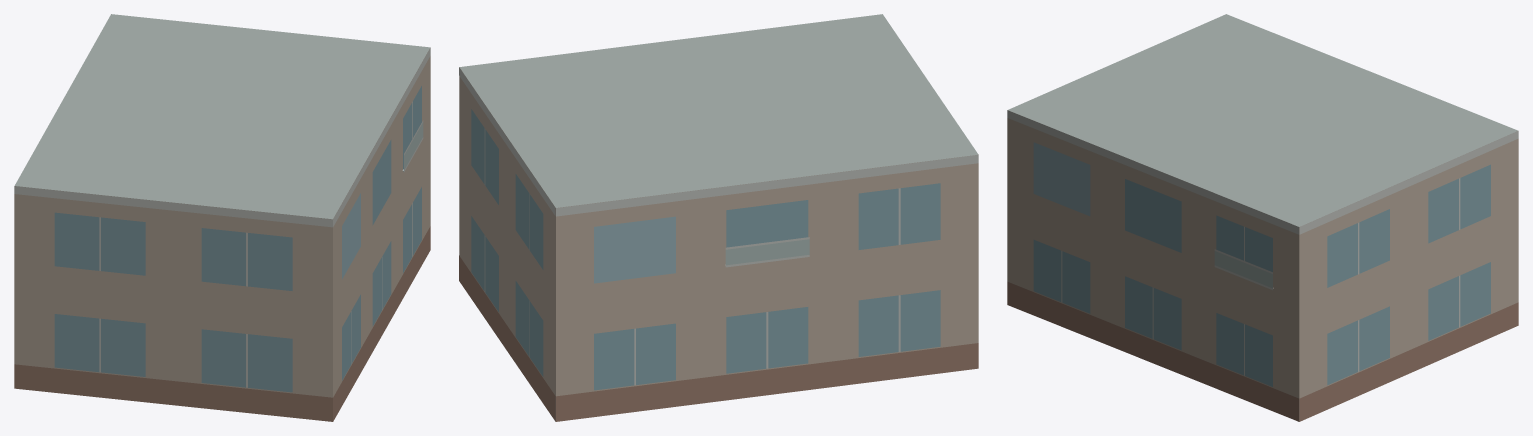
The model's file is survey-upis-33017725.glb.
3 views of the same model, side by side, from view 1: azimuth 30°, elevation 25°; view 2: azimuth 150°, elevation 25°; view 3: azimuth 270°, elevation 25° (orthographic). The views are drawn at different scales.
Visible parts, largest first — view 1: survey-upis-33017725.tmp; view 2: survey-upis-33017725.tmp; view 3: survey-upis-33017725.tmp.
Part boxes in pixels (<box>): survey-upis-33017725.tmp: <box>14,14,430,421</box>; survey-upis-33017725.tmp: <box>459,14,978,421</box>; survey-upis-33017725.tmp: <box>1007,14,1518,421</box>.
Bounding box in the file's own units: 14.32 × 6.1 × 14.51.
